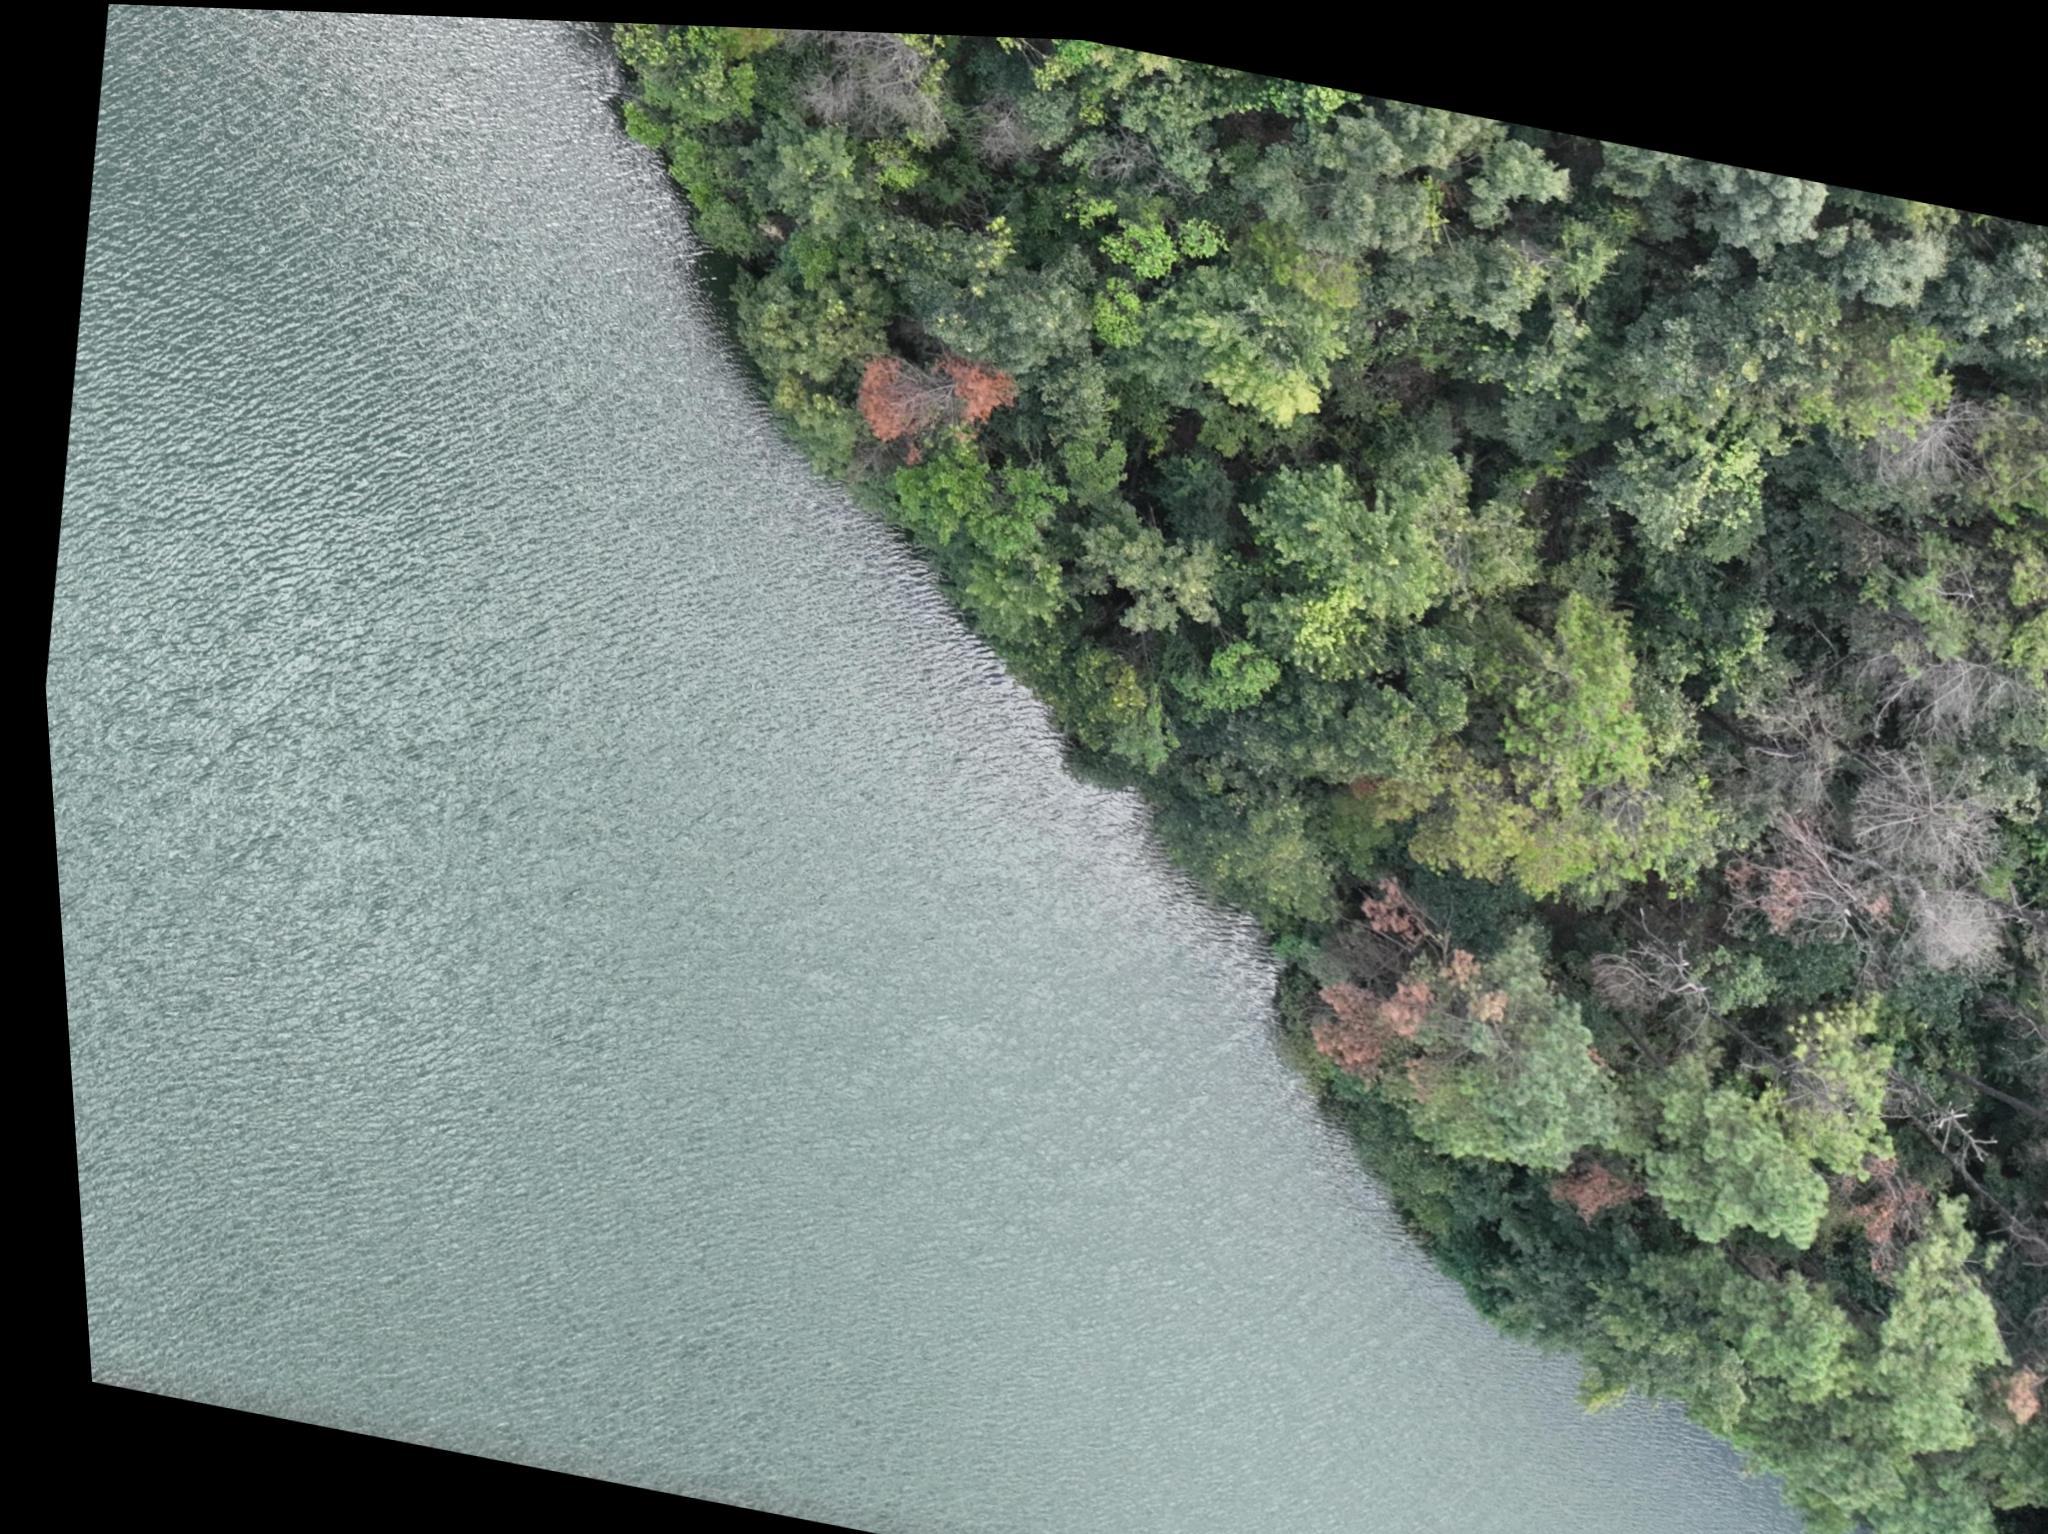dead: (1719, 578, 2048, 986), (757, 23, 931, 122)
heavy: (1255, 833, 1508, 1104), (830, 319, 1025, 469)
